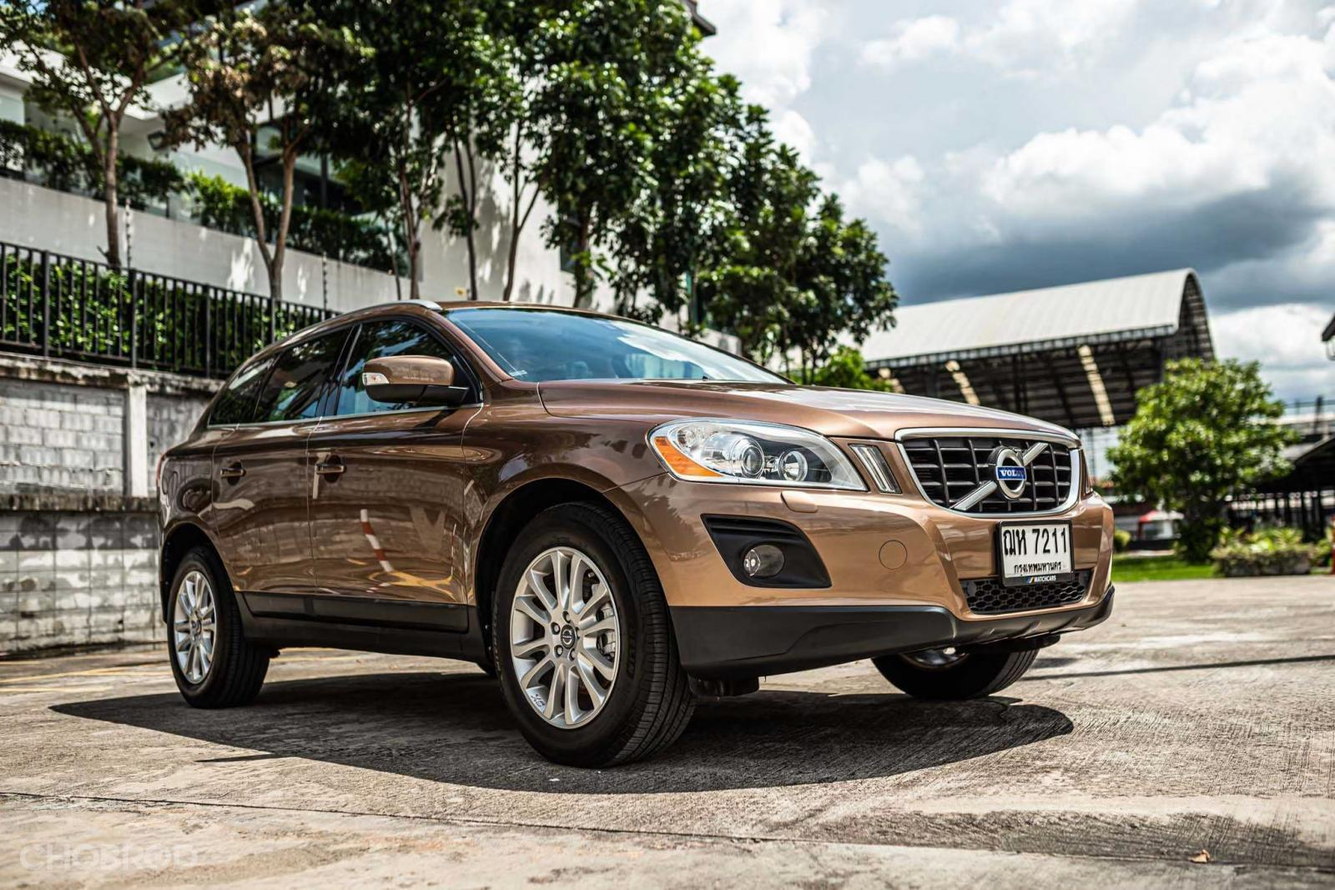license-plate: (991, 510, 1074, 604)
